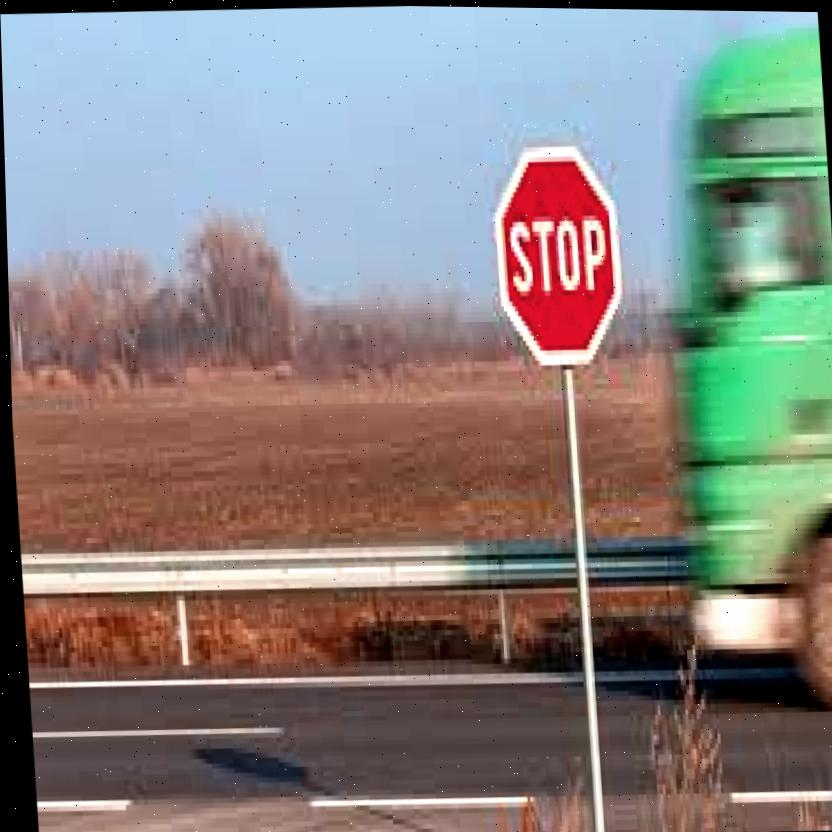Pole: (560, 374, 600, 827)
Sign: (485, 142, 631, 371)
